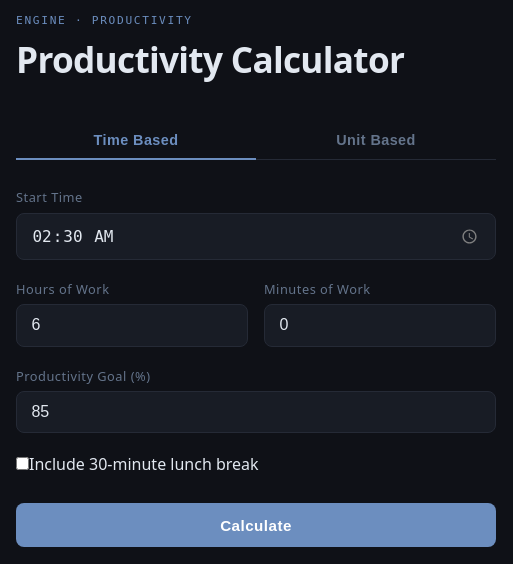
Test: CalculatorPage › disables button while loading
The width and height of the screenshot is (513, 564).
Click the button "Calculate". click: (256, 525)
box: [16,503,496,548]
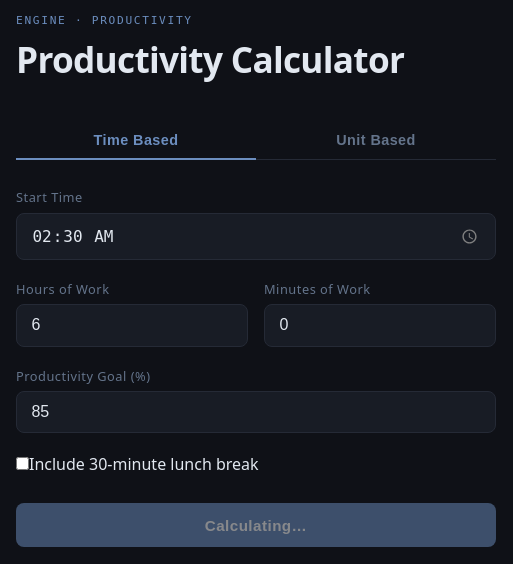
Now the button "Calculating…" is disabled, box [16,503,496,548]
